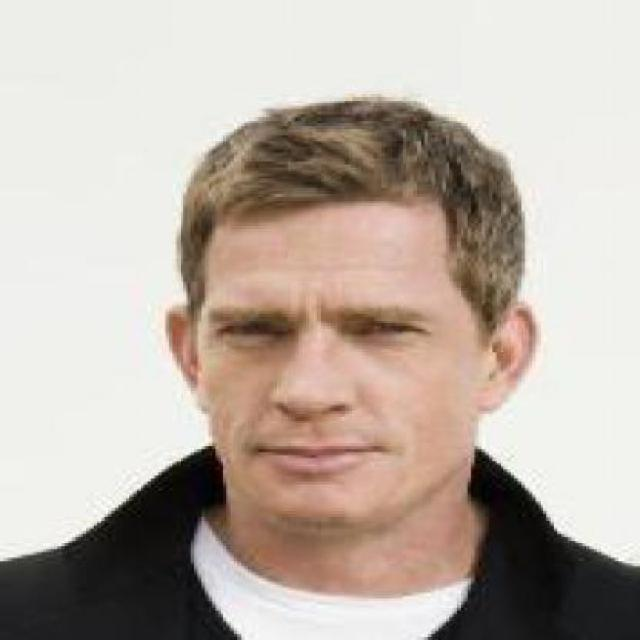closed-mouth: (250, 438, 384, 477)
